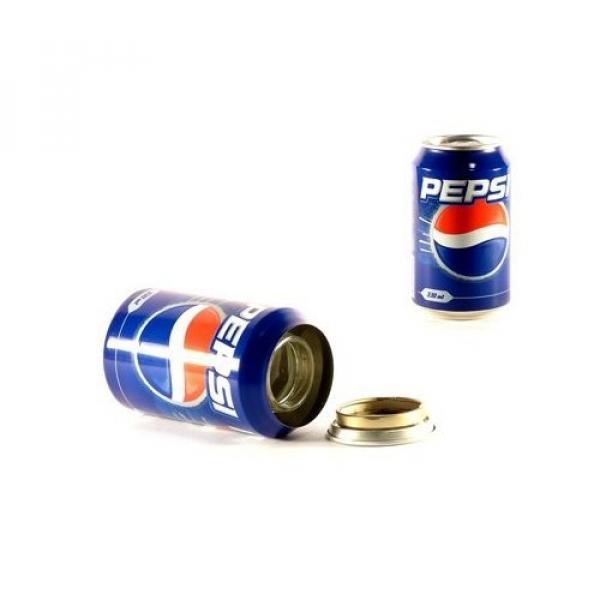pepsi: (133, 300, 231, 407), (426, 186, 508, 281)
